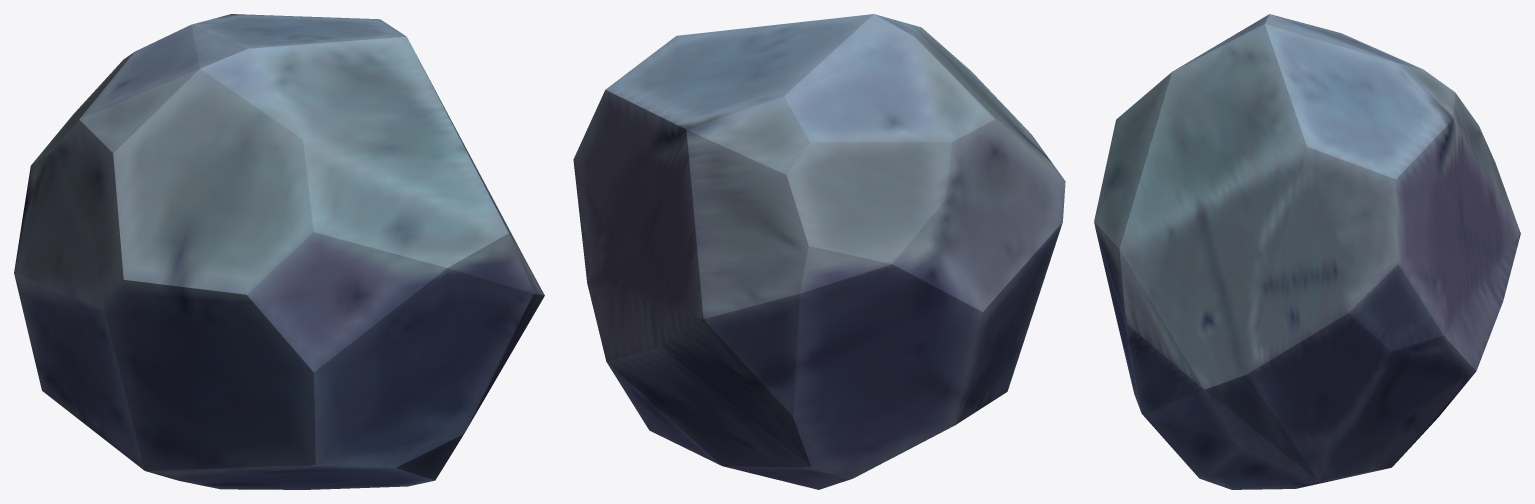
File: Rock2.FBX
The picture shows the model from 3 angles, left to right: view 1: azimuth 30°, elevation 25°; view 2: azimuth 150°, elevation 25°; view 3: azimuth 270°, elevation 25°; orthographic projection. The views are drawn at different scales.
Parts seen in each view (by area): view 1: Rock2_01; view 2: Rock2_01; view 3: Rock2_01.
Boxes of the visible parts, <box> form: Rock2_01: <box>14,14,544,489</box>; Rock2_01: <box>573,14,1065,489</box>; Rock2_01: <box>1094,14,1520,489</box>.
Size of the model in its own units: 0.4277 by 0.4262 by 0.4064.
Materials: 1 (1 with a texture image).
